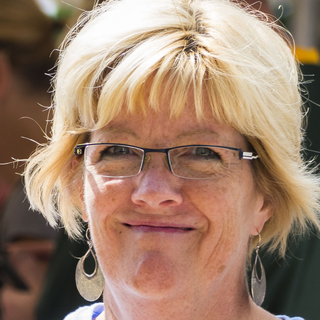eye: (176, 140, 226, 167), (91, 140, 140, 166)
